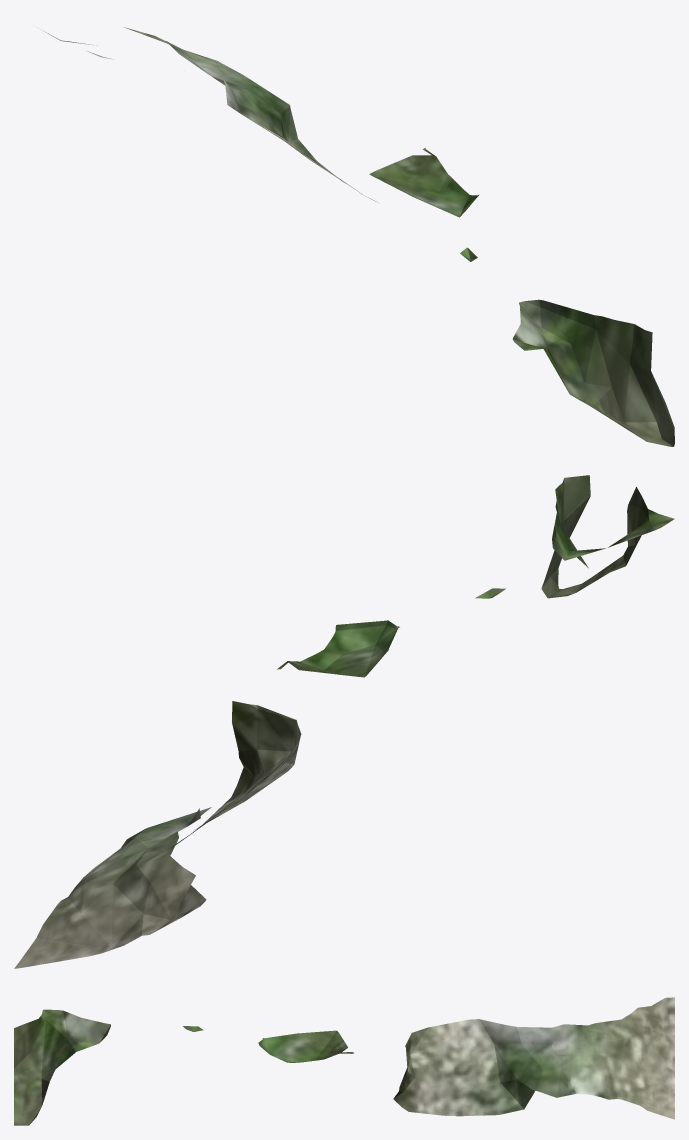
3 renders of one model, top to bottom at view 1: azimuth 30°, elevation 25°; view 2: azimuth 150°, elevation 25°; view 3: azimuth 270°, elevation 25°, orthographic. The views are drawn at different scales.
Bounding box in the file's own units: 0.5903 × 0.367 × 2.95.
1 material, 1 textured.
